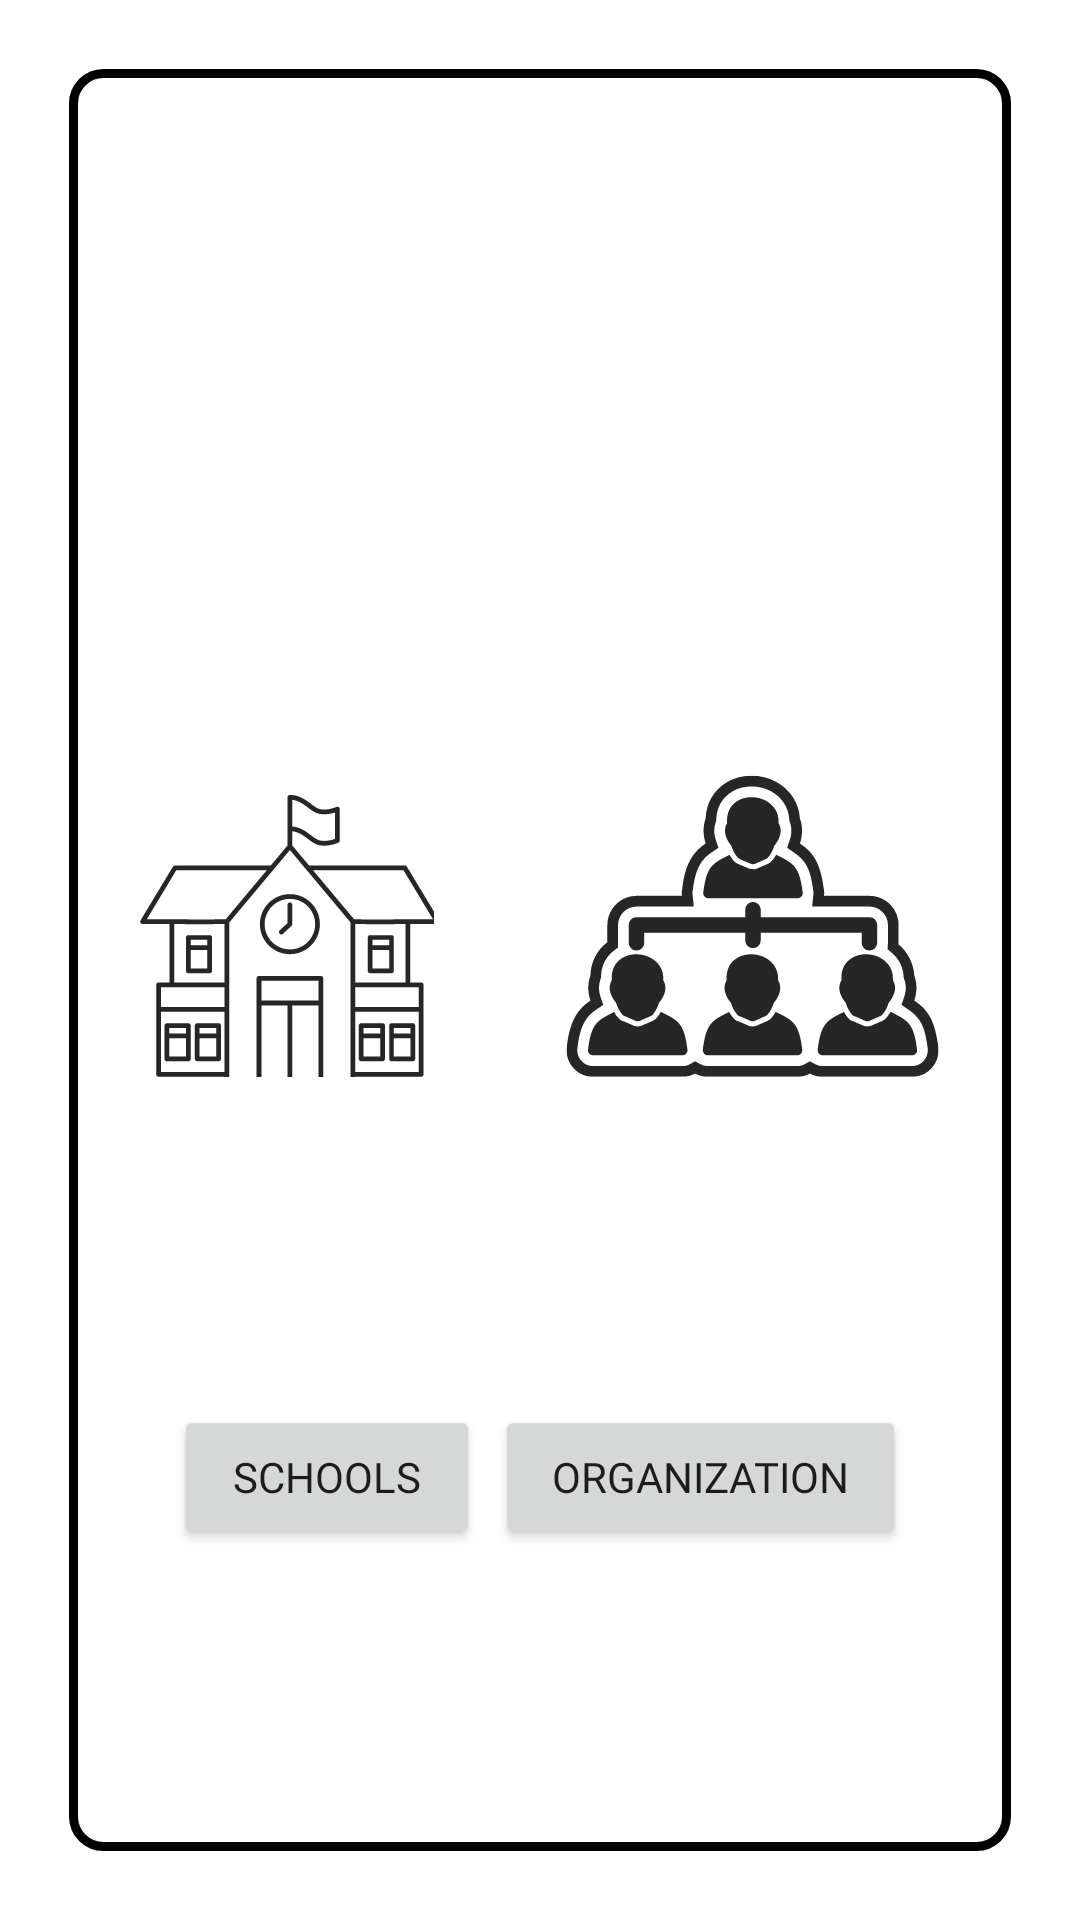

Locate icon controls on the screen. Image size 1080px×1920px, boxes as (x1, y1, x2, y2).
school: (140, 795, 434, 1077)
